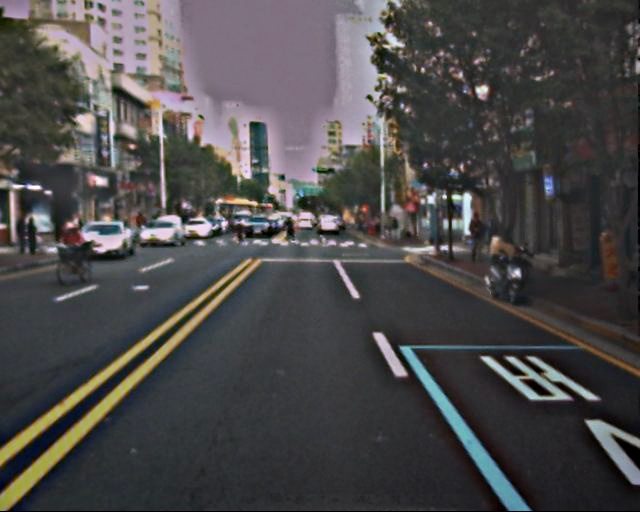person: (465, 211, 488, 266), (480, 212, 501, 262), (14, 218, 38, 254), (283, 215, 295, 245)
